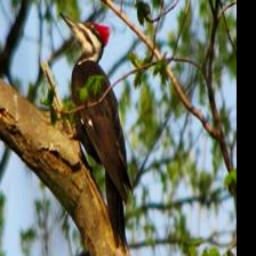Woodpecker: (55, 7, 135, 255)
